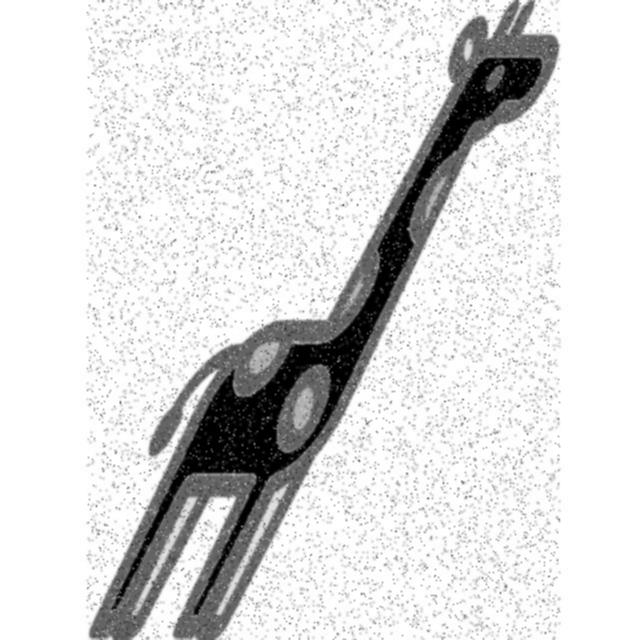girafe: (88, 1, 561, 640)
